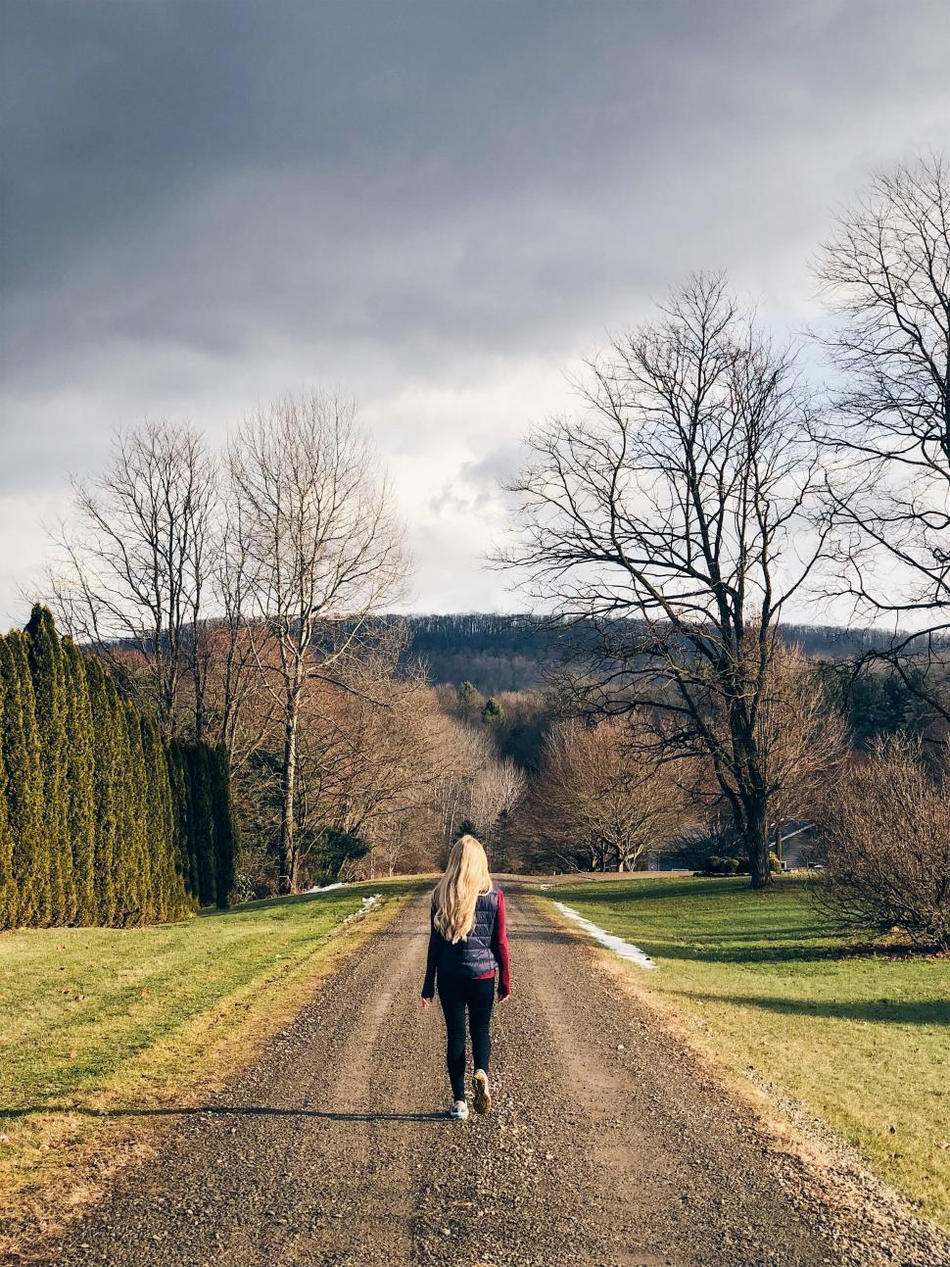Person: (401, 822, 527, 1142)
Tree: (534, 308, 843, 886), (204, 403, 382, 909)
